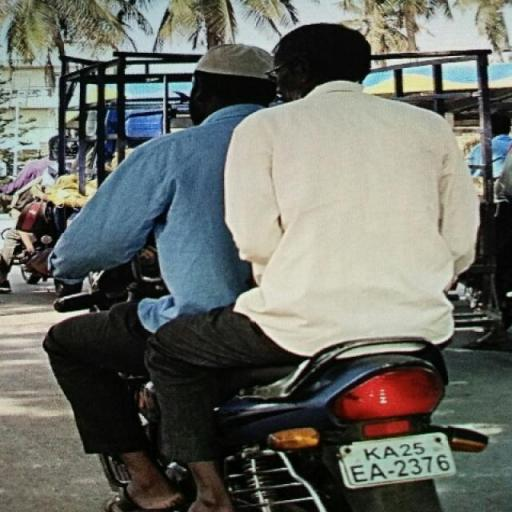bike: (35, 13, 492, 512)
numberplate: (340, 431, 454, 488)
withouthelmet: (280, 24, 368, 88), (193, 46, 268, 114)
